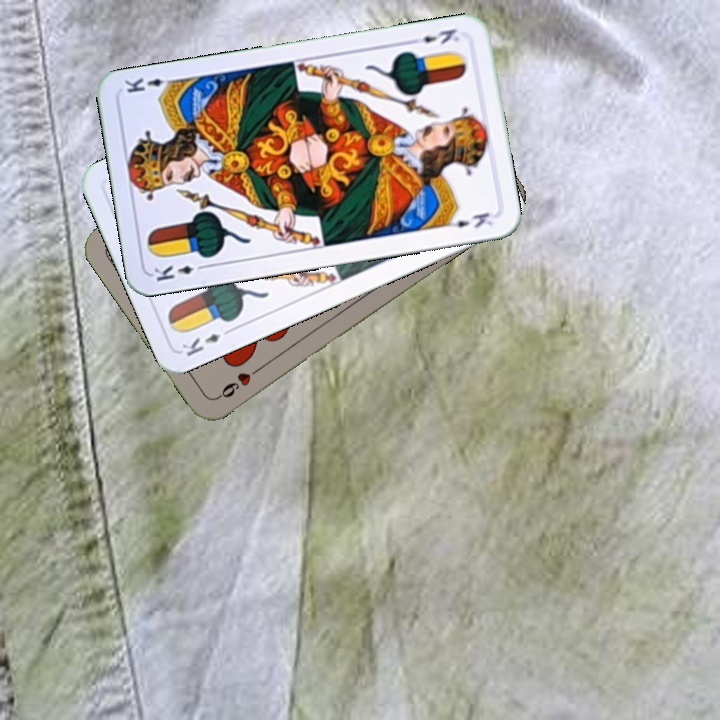EK: (177, 324, 235, 359), (150, 260, 209, 284), (406, 24, 462, 47)
H9: (213, 362, 264, 402)
